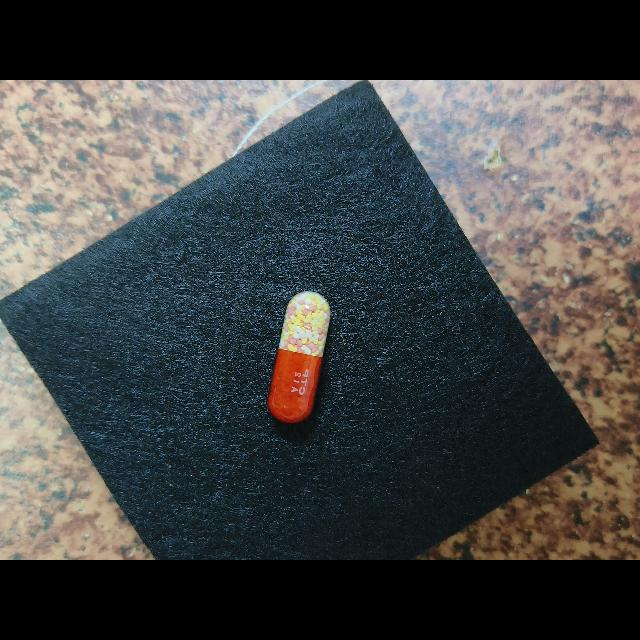Intact Capsule: (267, 292, 331, 423)
